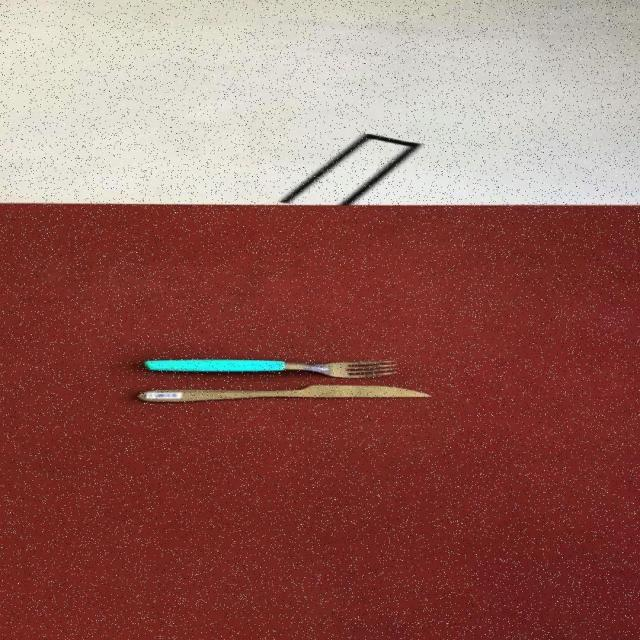Fork: (140, 358, 398, 378)
Knife: (136, 384, 432, 403), (141, 358, 399, 378)
